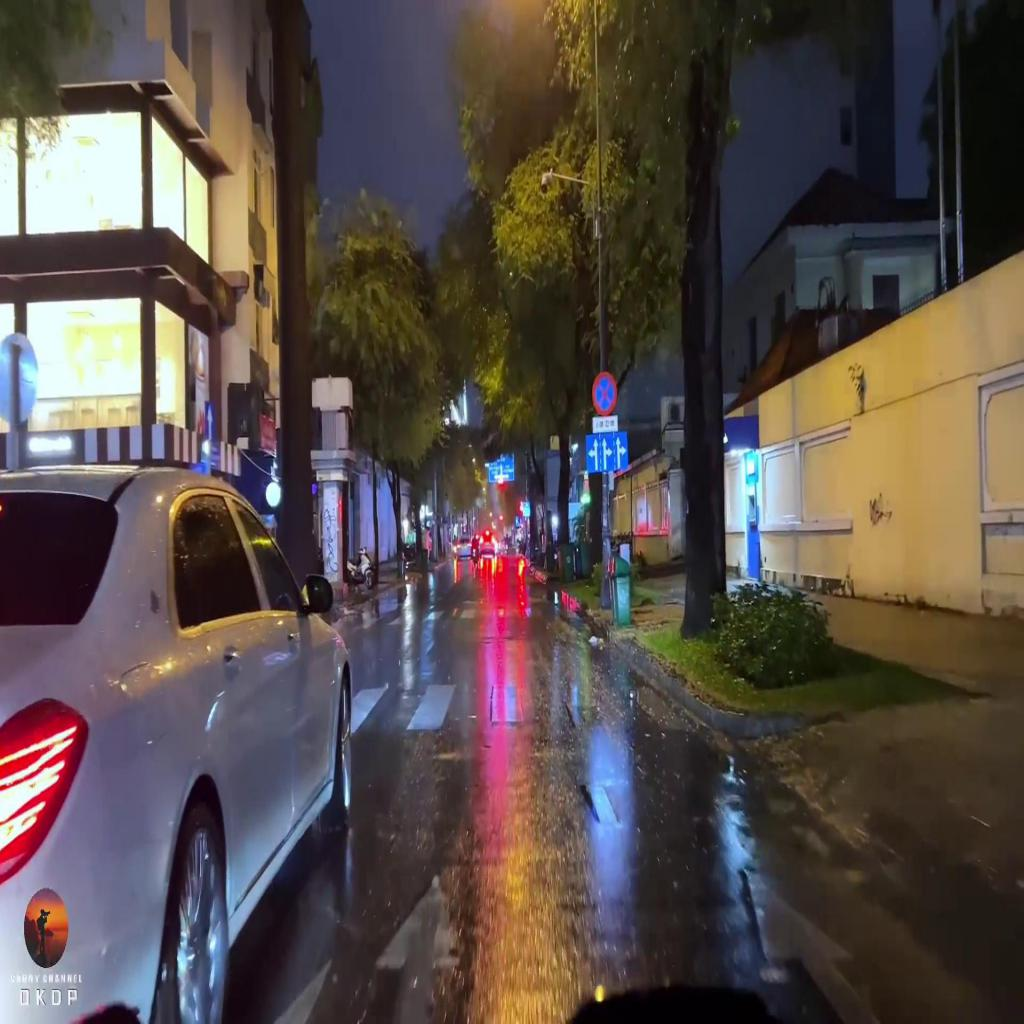cam_dung_xe_va_do_xe: (592, 371, 618, 416)
huong_di_tren_moi_lan_duong_theo_vach_ke_duong: (585, 432, 628, 473)
khac: (592, 417, 618, 434)
